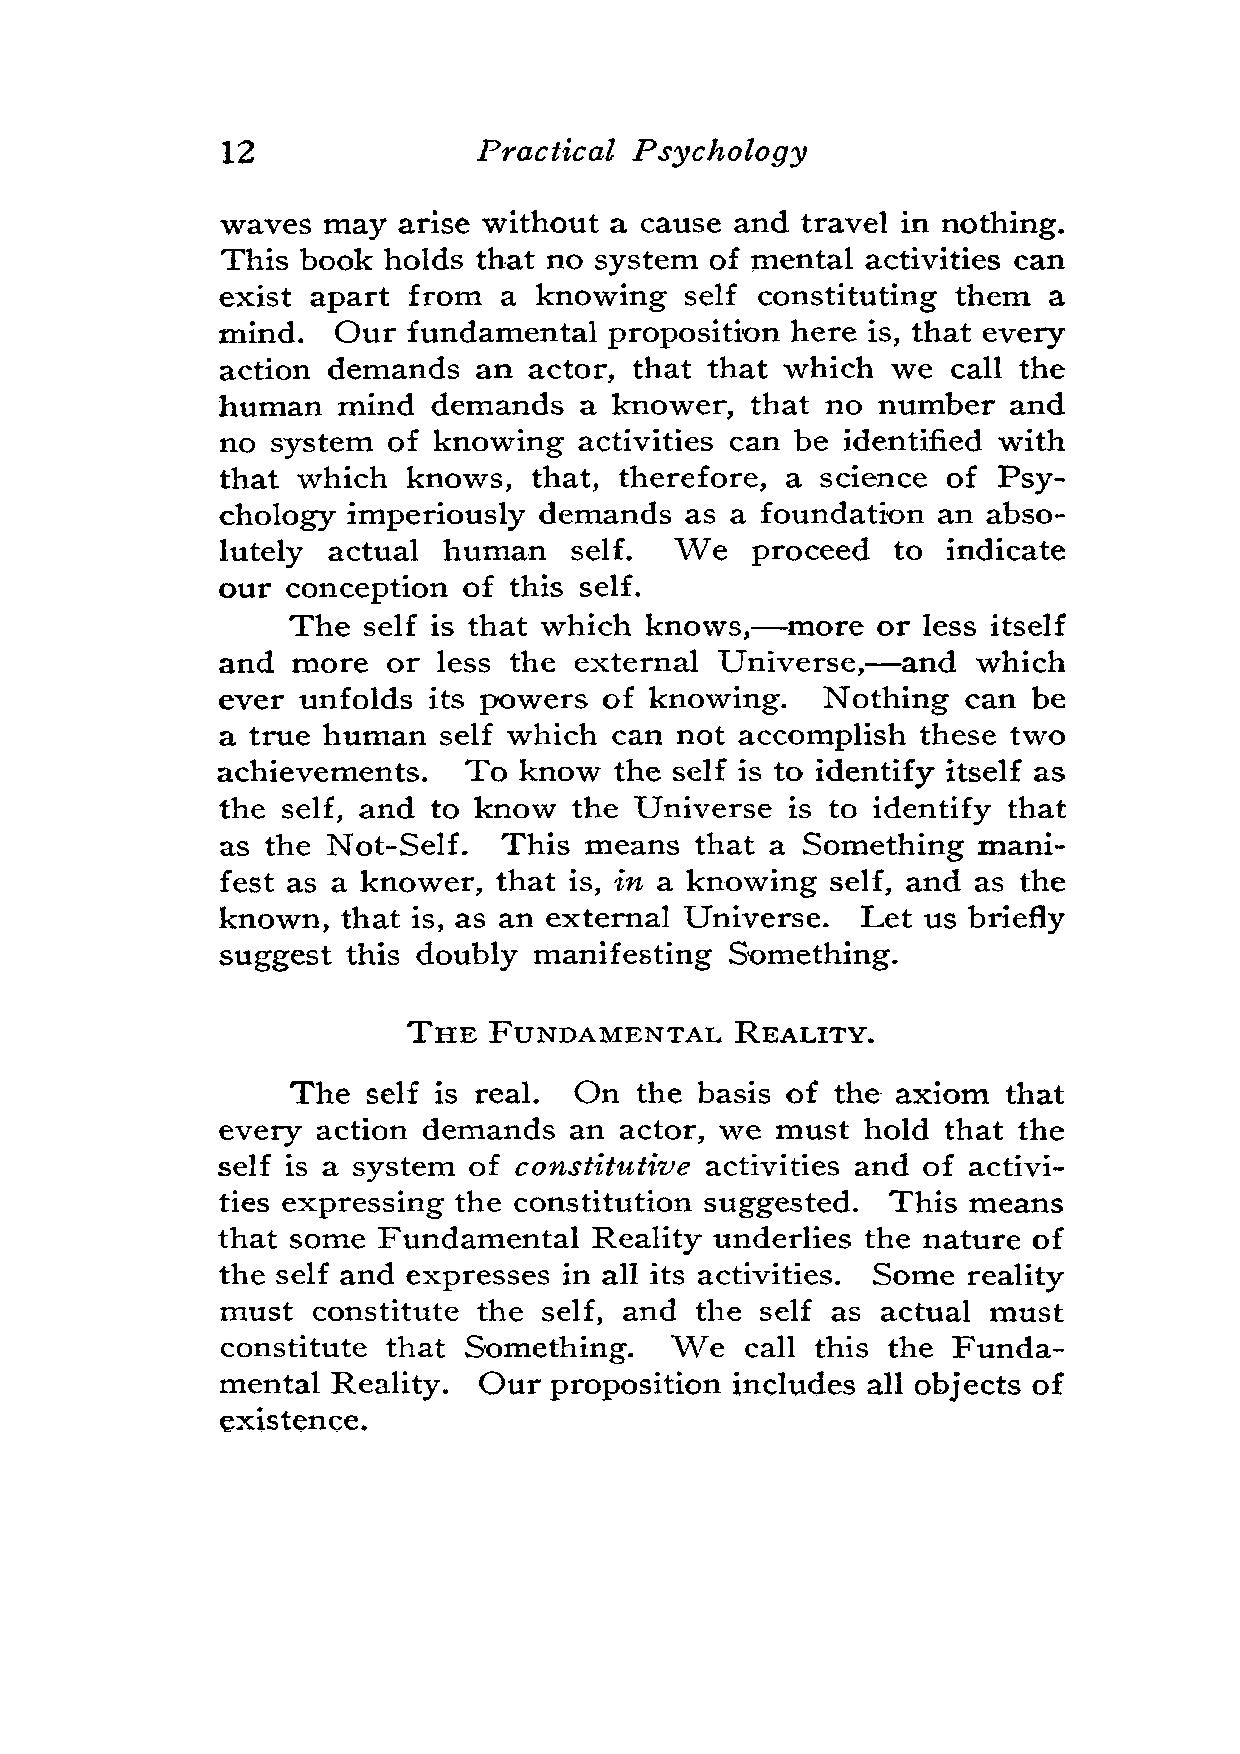chapter: (404, 1012, 875, 1052)
content: (212, 209, 1070, 972), (215, 1074, 1066, 1435)
content_chapter: (468, 133, 811, 169)
content_pagenumber: (219, 136, 262, 168)
